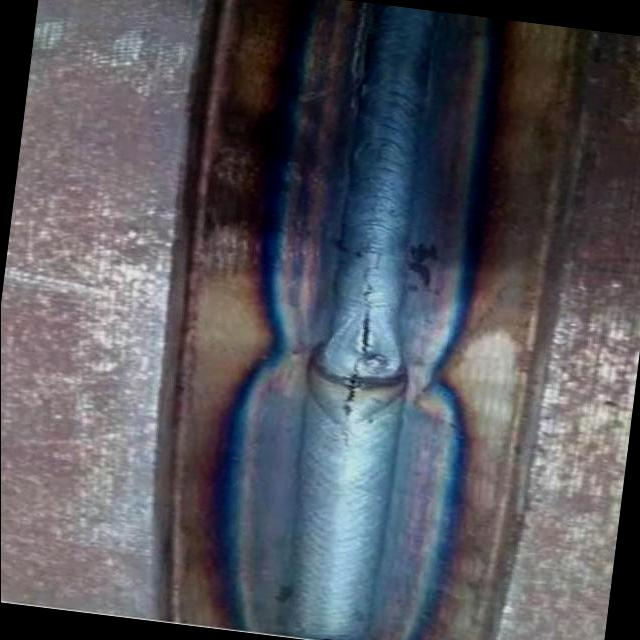defect: (338, 250, 388, 423)
